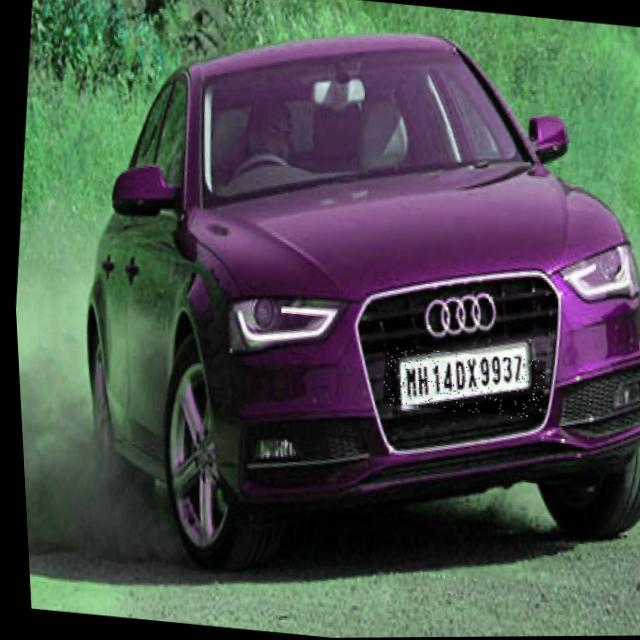license_plate: (375, 346, 543, 423)
